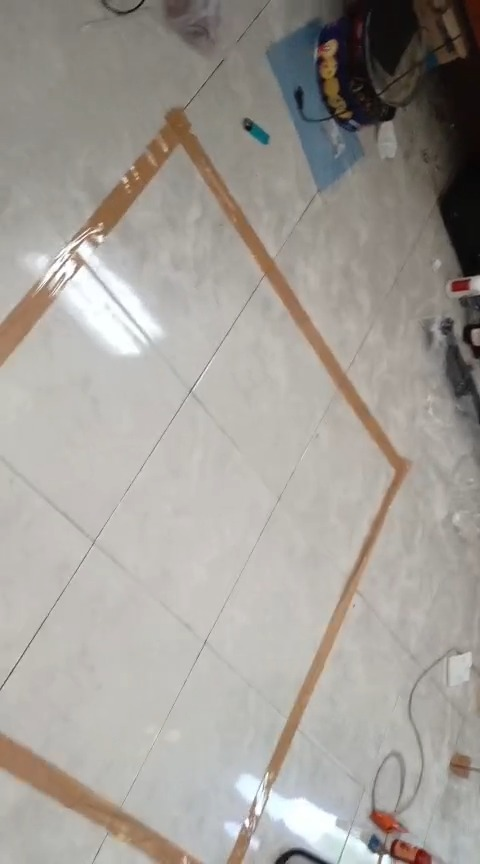floor marking: (0, 109, 409, 863), (0, 733, 199, 863)
